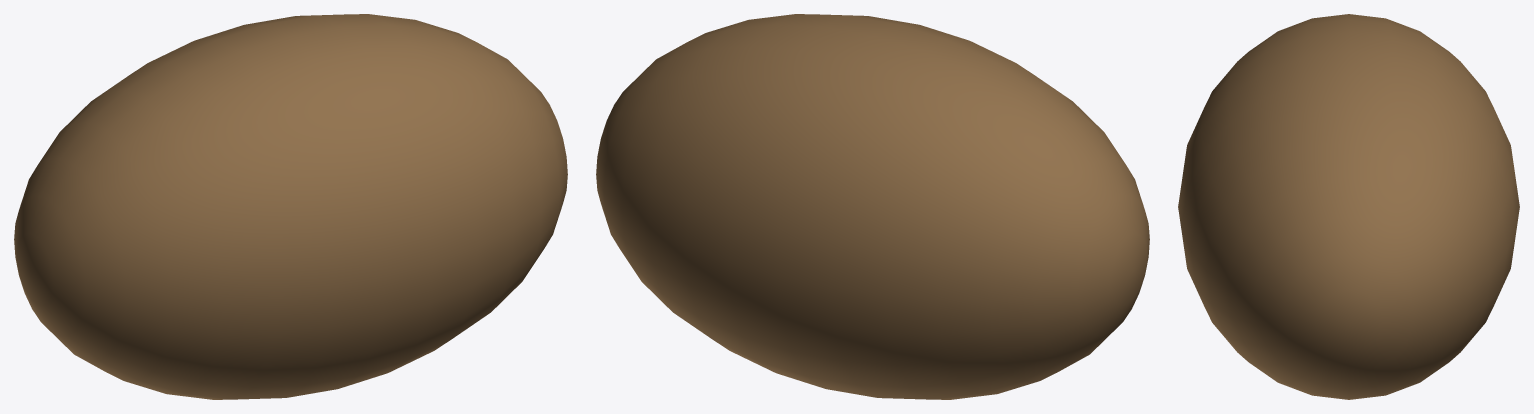
The model's file is Kiwi.fbx.
3 views of the same model, side by side, from view 1: azimuth 30°, elevation 25°; view 2: azimuth 150°, elevation 25°; view 3: azimuth 270°, elevation 25° (orthographic). The views are drawn at different scales.
Parts seen in each view (by area): view 1: Kiwi; view 2: Kiwi; view 3: Kiwi.
Part boxes in pixels (x1=…): Kiwi: x1=14, y1=14, x2=567, y2=399; Kiwi: x1=596, y1=14, x2=1149, y2=399; Kiwi: x1=1178, y1=14, x2=1519, y2=399.
Bounding box in the file's own units: 0.08 × 0.05 × 0.05.
